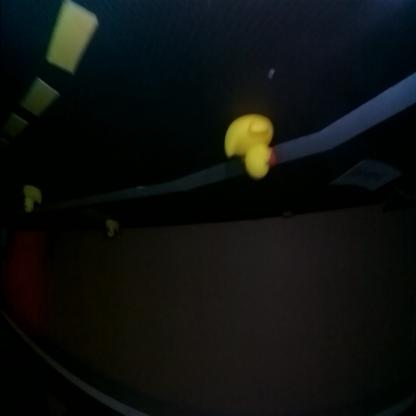Duckie: (226, 121, 274, 178), (26, 190, 42, 212), (106, 219, 118, 238)
